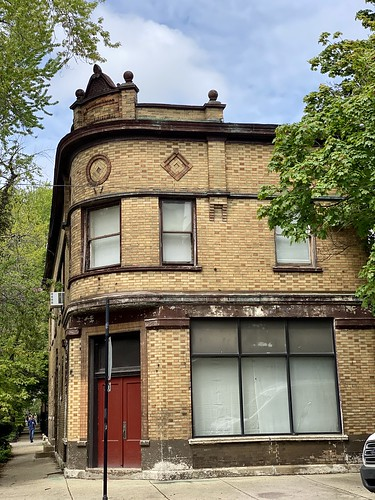building: (42, 127, 360, 477)
sky: (84, 1, 330, 114)
tree: (261, 8, 375, 254)
